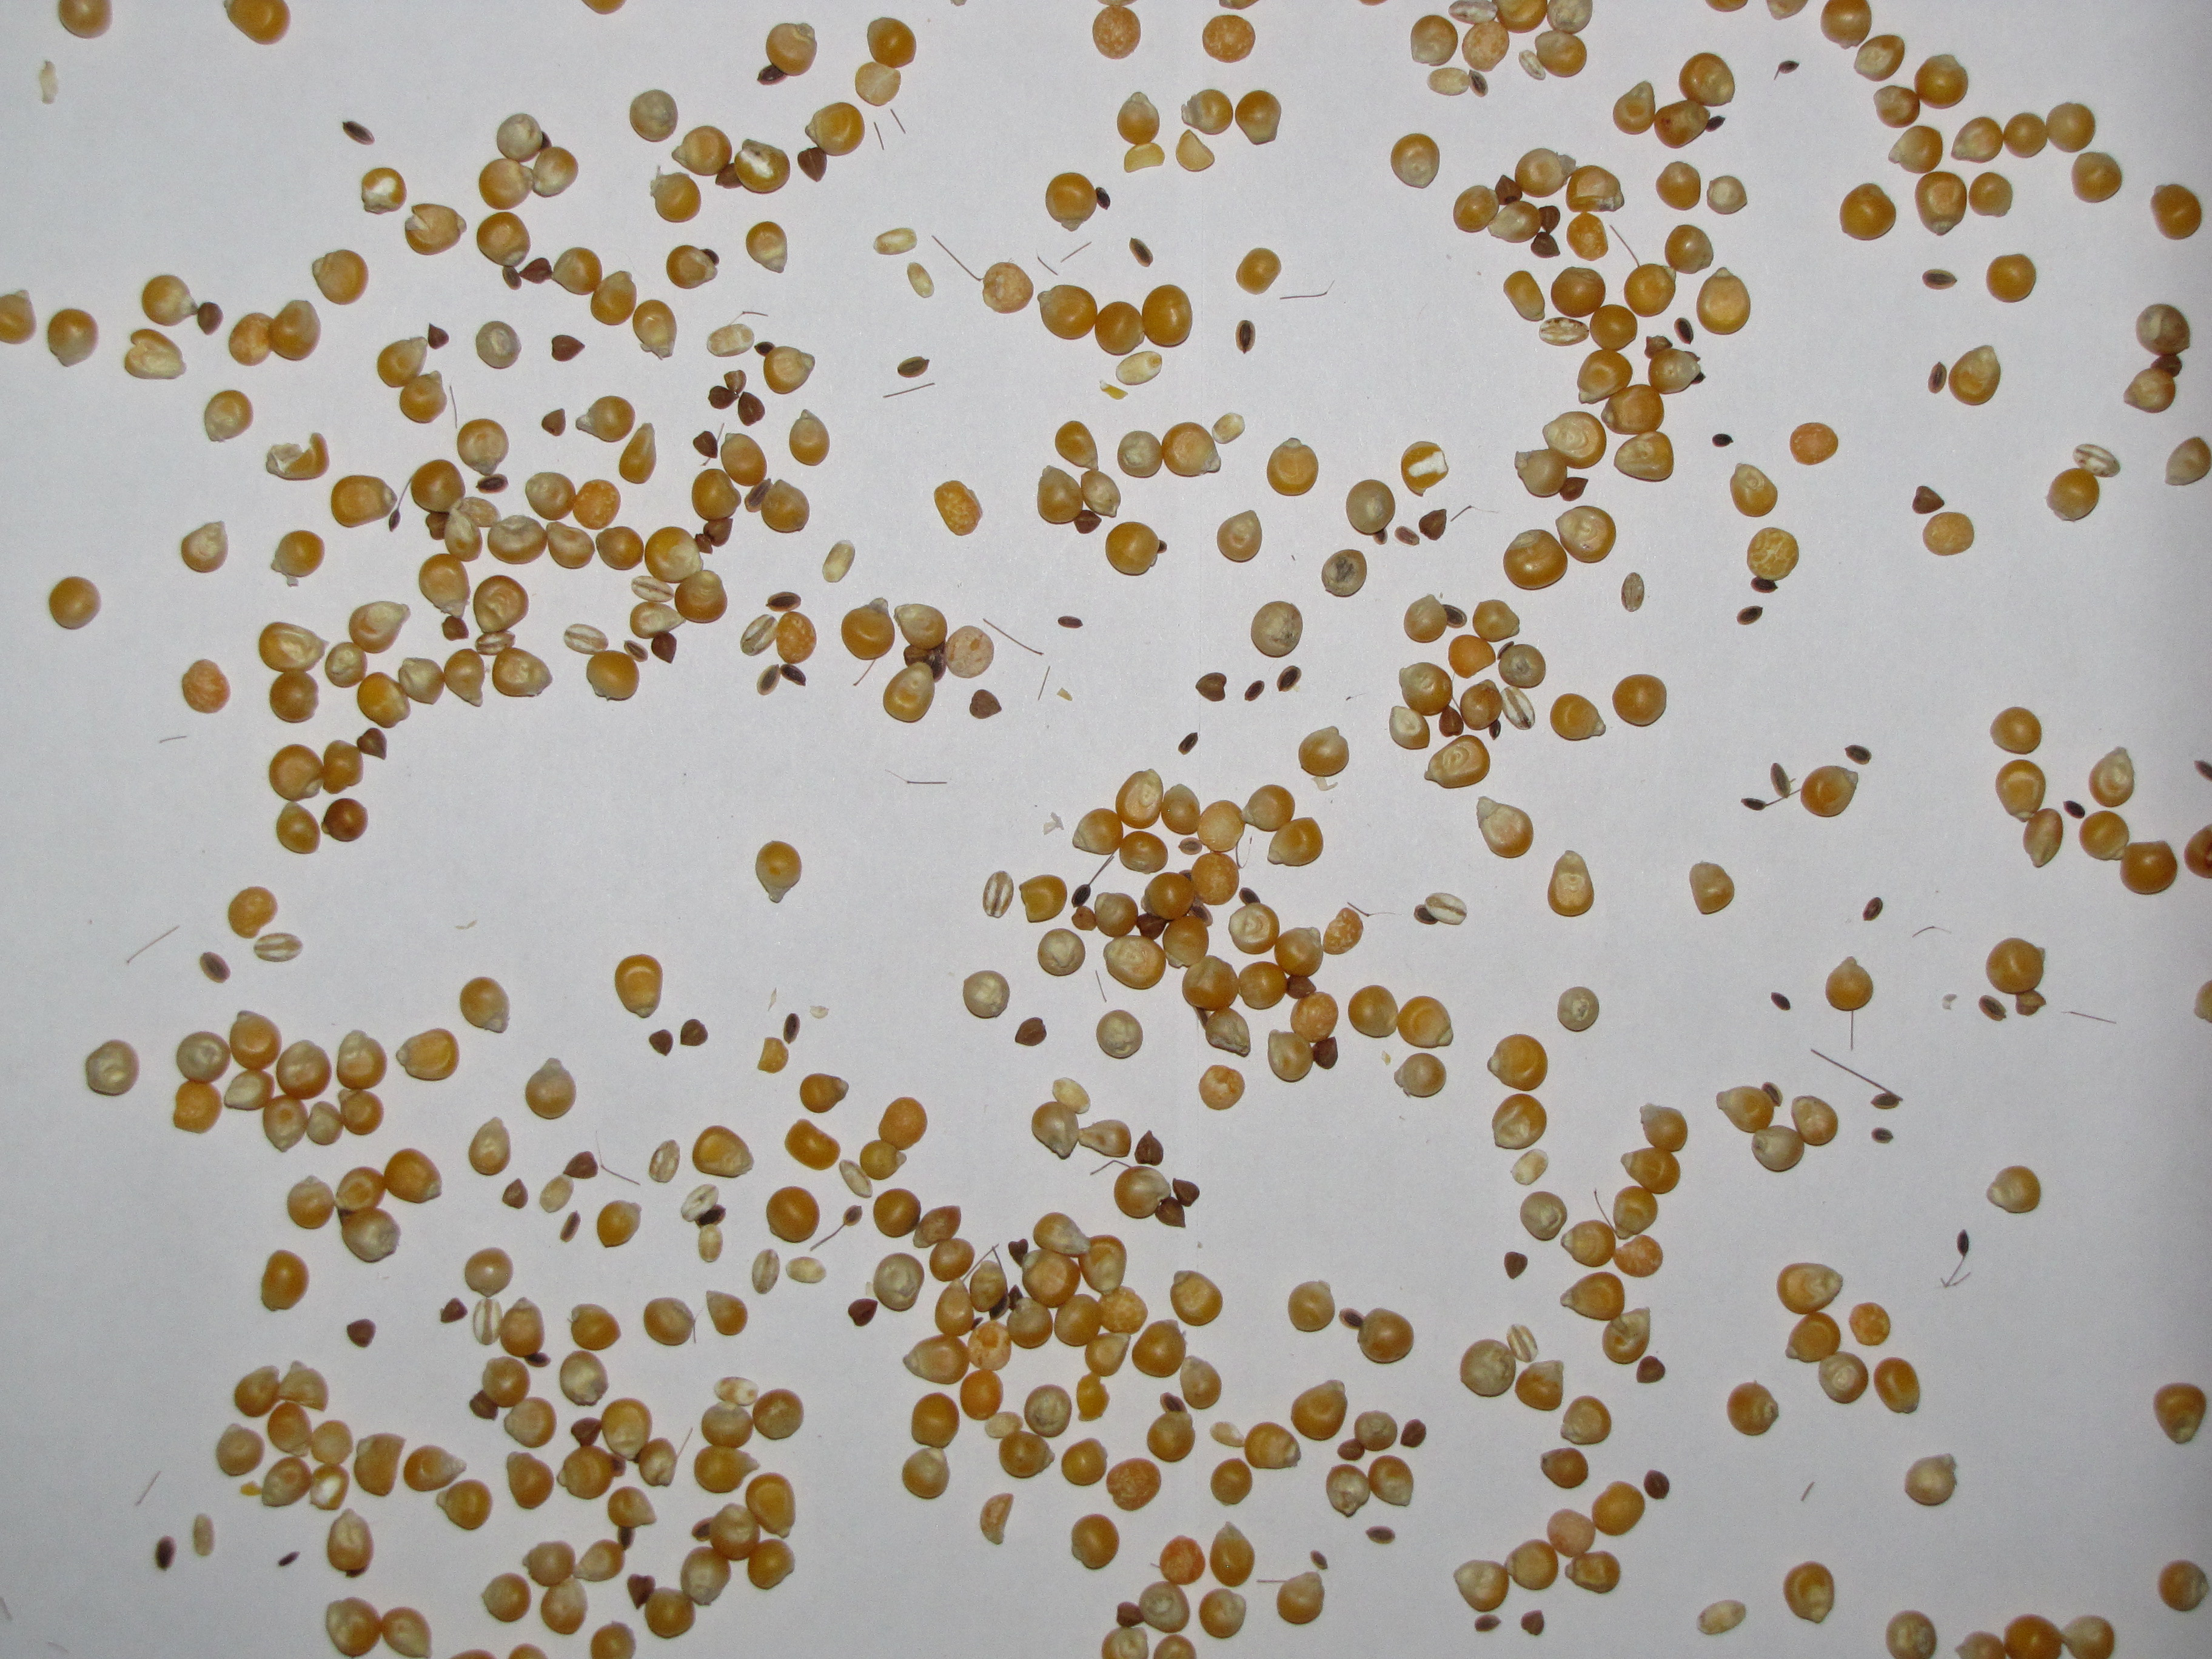mais: (932, 235, 1035, 314), (1811, 1049, 1904, 1110), (1825, 957, 1874, 1049), (754, 342, 815, 396), (1404, 594, 1467, 643), (754, 840, 803, 903), (1106, 1457, 1162, 1511), (784, 1119, 841, 1171), (1338, 1410, 1397, 1460), (1390, 132, 1440, 190), (575, 396, 636, 443), (2088, 746, 2135, 807), (1726, 1382, 1778, 1436), (1071, 1513, 1120, 1570), (911, 1392, 960, 1450), (1298, 725, 1350, 777), (629, 89, 679, 143), (1202, 14, 1256, 64), (1400, 441, 1449, 497), (934, 481, 982, 537), (1888, 125, 1944, 174), (1235, 89, 1282, 146), (866, 16, 916, 68), (204, 390, 254, 443), (1989, 706, 2043, 755), (1550, 694, 1606, 741), (1986, 253, 2036, 303), (1853, 33, 1905, 82), (1198, 1588, 1247, 1640), (469, 1117, 510, 1176), (1519, 1190, 1568, 1241), (1096, 1009, 1144, 1060), (1038, 927, 1087, 978), (1216, 511, 1263, 563), (181, 521, 228, 573), (1411, 14, 1458, 66), (1393, 1053, 1447, 1098), (1689, 861, 1735, 915), (789, 410, 831, 467), (1019, 875, 1068, 924), (961, 971, 1010, 1019), (1655, 160, 1702, 211), (1496, 641, 1547, 688), (1923, 511, 1975, 556), (665, 246, 719, 289), (618, 423, 657, 484), (1061, 1438, 1108, 1486), (361, 167, 408, 214), (475, 321, 521, 369), (1322, 549, 1367, 598), (1789, 422, 1839, 465), (1503, 270, 1545, 322), (745, 221, 787, 274), (982, 619, 1042, 655), (1237, 247, 1282, 295), (1968, 171, 2013, 218), (1198, 1065, 1245, 1110), (320, 798, 369, 842), (596, 526, 644, 570), (597, 1201, 641, 1248), (705, 1290, 747, 1337), (1211, 1459, 1252, 1506), (799, 1073, 848, 1114), (1557, 986, 1599, 1032), (979, 1493, 1014, 1546), (1176, 129, 1216, 173), (1115, 350, 1162, 385), (707, 322, 754, 357), (707, 369, 747, 410), (1707, 176, 1747, 216), (982, 870, 1014, 918), (650, 1140, 681, 1183), (873, 227, 918, 254), (758, 1037, 789, 1073), (563, 1150, 599, 1180), (968, 688, 1001, 720), (1134, 1131, 1163, 1166), (906, 261, 934, 298), (1014, 1018, 1047, 1047), (737, 392, 765, 427), (1418, 509, 1447, 540), (1195, 673, 1226, 702), (550, 335, 585, 361), (1622, 572, 1644, 612), (347, 1319, 376, 1349), (1912, 486, 1944, 514), (388, 486, 408, 532), (848, 1298, 878, 1326), (1635, 1356, 1665, 1384), (343, 120, 374, 146), (502, 1178, 528, 1209), (681, 1019, 709, 1047), (1075, 1272, 1101, 1302), (439, 1298, 469, 1324), (1400, 1419, 1426, 1448), (1644, 1469, 1670, 1499), (897, 356, 930, 378), (1979, 995, 2006, 1021), (1923, 268, 1958, 289), (1129, 237, 1153, 267), (542, 408, 566, 437), (559, 1211, 582, 1243), (883, 383, 934, 397), (1235, 321, 1256, 354), (1503, 1251, 1527, 1279), (1277, 666, 1301, 692), (1521, 1610, 1545, 1636), (650, 1028, 672, 1056), (1928, 362, 1947, 394), (427, 322, 449, 349), (1844, 744, 1872, 765), (1674, 317, 1693, 345), (1862, 897, 1883, 922), (1773, 61, 1799, 80), (1393, 526, 1420, 545), (1737, 606, 1763, 626), (784, 1012, 799, 1044), (1177, 732, 1198, 755), (592, 1429, 611, 1453), (2062, 800, 2085, 819), (1038, 666, 1050, 701), (1594, 1190, 1608, 1220), (1280, 291, 1327, 300), (1771, 992, 1791, 1011), (1057, 615, 1083, 629), (1871, 1127, 1893, 1143), (1956, 1229, 1968, 1256), (521, 152, 540, 169), (1451, 505, 1472, 521), (1096, 971, 1106, 1002), (1712, 434, 1733, 446), (1040, 261, 1057, 275), (958, 1330, 972, 1347), (1449, 699, 1461, 714), (1057, 688, 1073, 701), (742, 310, 768, 317), (1155, 931, 1163, 950), (907, 781, 946, 784), (1129, 925, 1141, 936), (1097, 1326, 1109, 1335), (702, 457, 711, 467), (1163, 924, 1169, 932)
